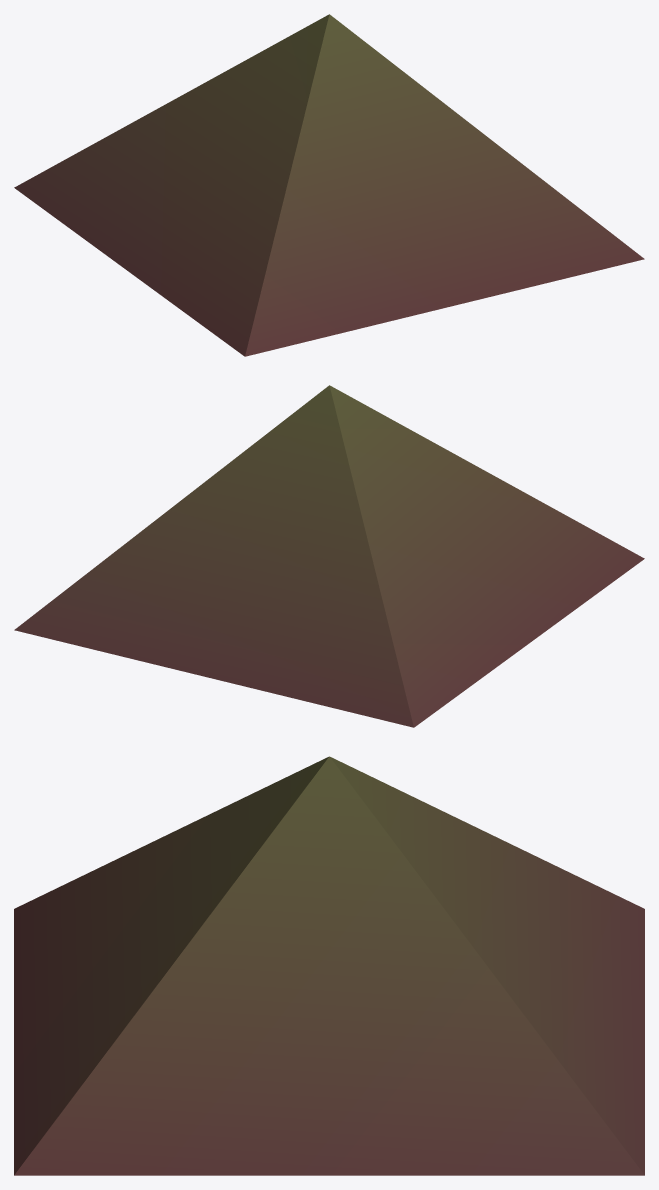
Rendered from silicone-point.glb.
The picture shows the model from 3 angles, top to bottom: view 1: azimuth 30°, elevation 25°; view 2: azimuth 150°, elevation 25°; view 3: azimuth 270°, elevation 25°; orthographic projection. The views are drawn at different scales.
Parts seen in each view (by area): view 1: silicone-point; view 2: silicone-point; view 3: silicone-point.
Part boxes in pixels (box(x1,y1,x2,y2)): silicone-point: box(14, 14, 644, 356); silicone-point: box(14, 385, 644, 727); silicone-point: box(14, 756, 644, 1175).
Bounding box in the file's own units: 1 × 0.5 × 1.
